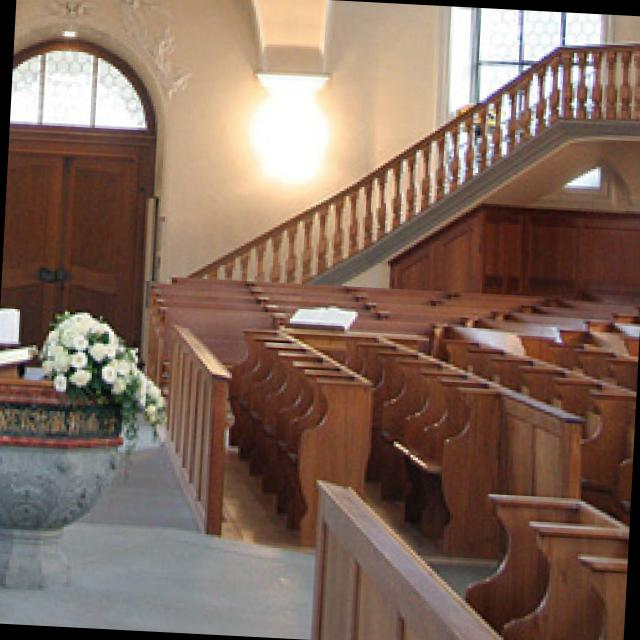2001: (11, 48, 142, 125)
2006: (468, 8, 606, 184)
baptismal font: (0, 372, 120, 586)
benches: (461, 489, 625, 640)
benches crop: (224, 309, 636, 559), (147, 276, 635, 408)
double door: (0, 139, 141, 395)
fence - x: (309, 477, 505, 640), (152, 323, 227, 537)
floor -X: (0, 383, 632, 640)
flowers in pot: (36, 309, 163, 413)
staircase: (177, 40, 640, 279)
walll: (0, 0, 640, 406)
